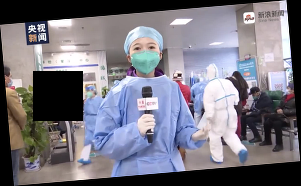with_mask: (129, 41, 162, 74), (7, 75, 14, 88), (285, 87, 295, 96), (86, 89, 95, 98), (252, 92, 260, 101)
